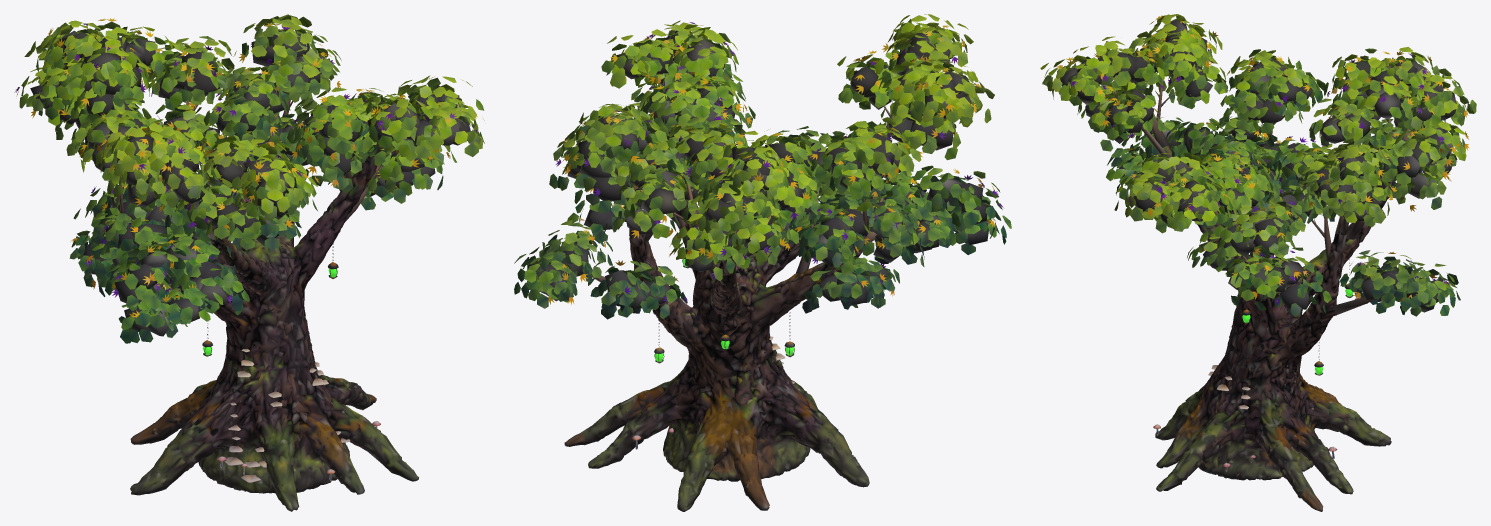
Rendered from agac_masal_mesesi.glb.
3 renders of one model, left to right at view 1: azimuth 30°, elevation 25°; view 2: azimuth 150°, elevation 25°; view 3: azimuth 270°, elevation 25°, orthographic. The views are drawn at different scales.
Parts seen in each view (by area): view 1: agac_masal_mesesi_LOD0; view 2: agac_masal_mesesi_LOD0; view 3: agac_masal_mesesi_LOD0.
Boxes of the visible parts, box(x1,y1,x2,y2) form: agac_masal_mesesi_LOD0: box(14, 14, 484, 511); agac_masal_mesesi_LOD0: box(514, 14, 1011, 511); agac_masal_mesesi_LOD0: box(1040, 14, 1476, 511).
Size of what is drawn, in the model's own units: 10.46 by 10.46 by 11.24.
2 materials, 1 textured.
